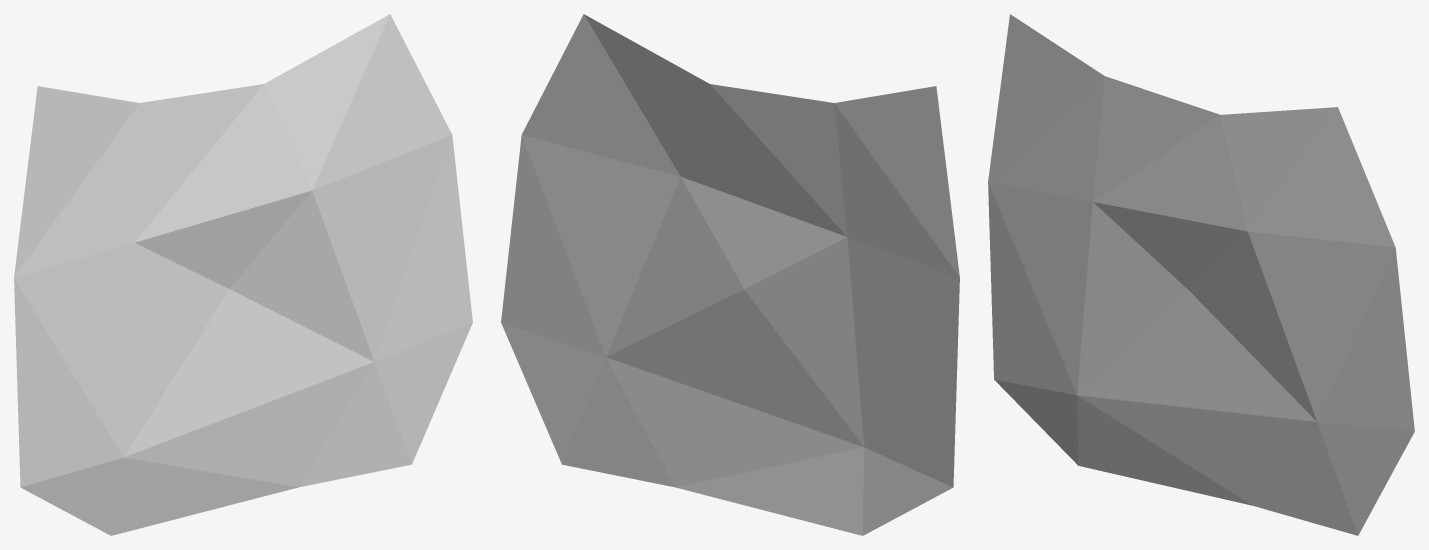
Rendered from SM_Env_Ivy_01.glb.
The picture shows the model from 3 angles, left to right: view 1: azimuth 30°, elevation 25°; view 2: azimuth 150°, elevation 25°; view 3: azimuth 330°, elevation 25°; orthographic projection. The views are drawn at different scales.
Parts seen in each view (by area): view 1: SM_Env_Ivy_01; view 2: SM_Env_Ivy_01; view 3: SM_Env_Ivy_01.
Boxes of the visible parts, box(x1,y1,x2,y2) form: SM_Env_Ivy_01: box(14, 14, 472, 535); SM_Env_Ivy_01: box(501, 14, 959, 535); SM_Env_Ivy_01: box(988, 14, 1414, 535).
Size of the model in its own units: 2.39 by 2.34 by 0.0857.
1 material, 1 textured.
